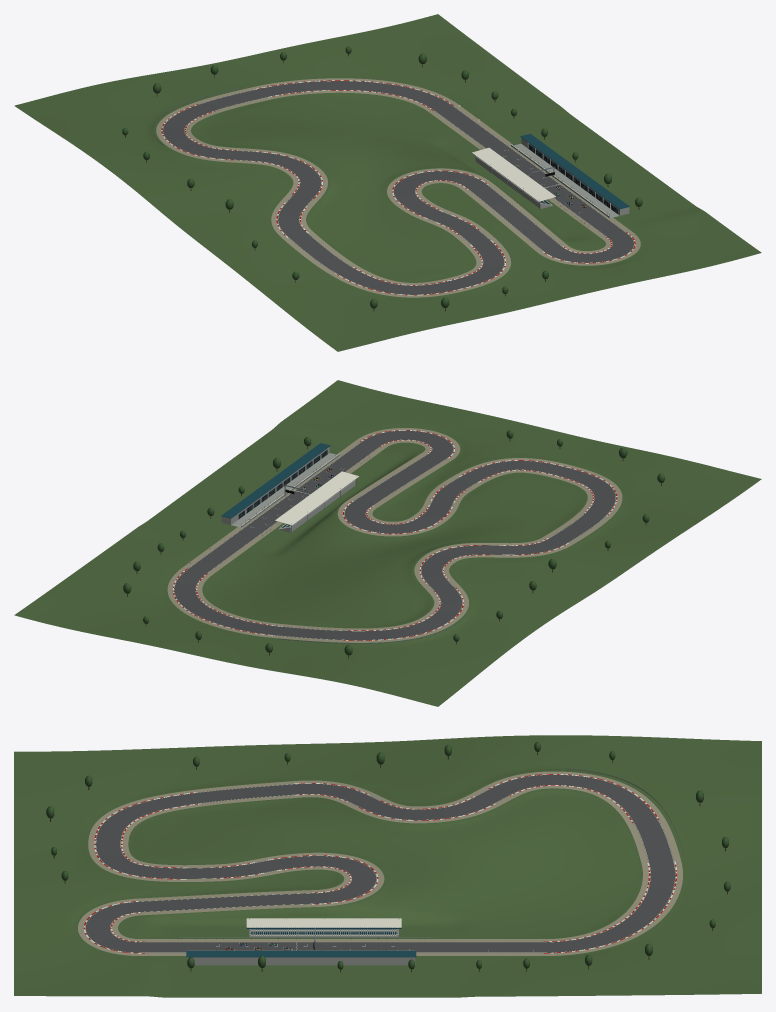
Rendered from apex-circuit.glb.
3 views of the same model, one above another, from view 1: azimuth 30°, elevation 25°; view 2: azimuth 150°, elevation 25°; view 3: azimuth 270°, elevation 25° (orthographic). The views are drawn at different scales.
Visible parts, largest first — view 1: Circuit | APEX PARK / Geometry; view 2: Circuit | APEX PARK / Geometry; view 3: Circuit | APEX PARK / Geometry.
Boxes of the visible parts, x1=… form: Circuit | APEX PARK / Geometry: x1=14, y1=14, x2=761, y2=351; Circuit | APEX PARK / Geometry: x1=14, y1=380, x2=761, y2=706; Circuit | APEX PARK / Geometry: x1=14, y1=735, x2=761, y2=997.
Size of the model in its own units: 310 by 22.32 by 410.
